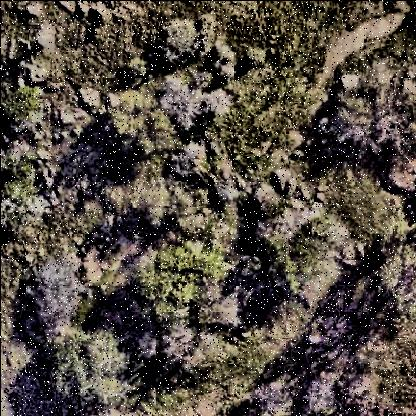tree-top: (329, 64, 416, 167), (256, 209, 350, 293), (44, 327, 132, 408), (137, 236, 223, 317), (361, 225, 416, 342), (151, 67, 236, 133), (28, 250, 90, 335), (102, 91, 177, 161), (134, 166, 205, 232), (1, 136, 47, 221), (295, 369, 341, 416), (158, 20, 205, 62), (2, 86, 48, 126), (251, 370, 292, 414)
